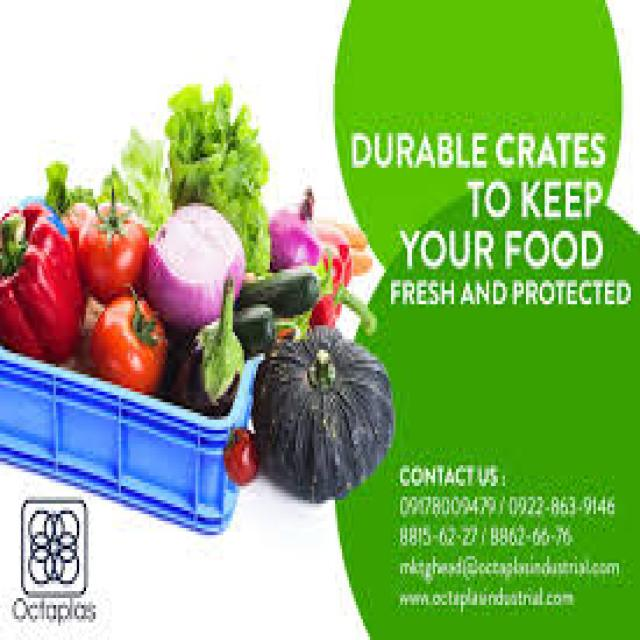basket: (0, 348, 259, 535)
